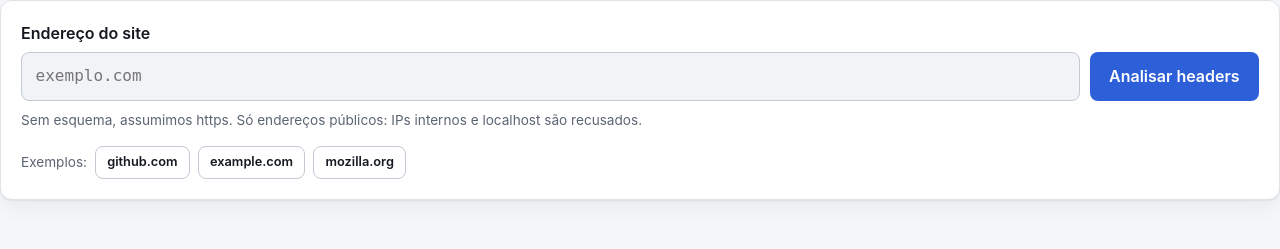
ScanForm › rejects not a url before it ever reaches the API
The image size is (1280, 249).
Type "not a url" into the field labelled "Endereço do site" at (551, 77), box [21,52,1080,101]
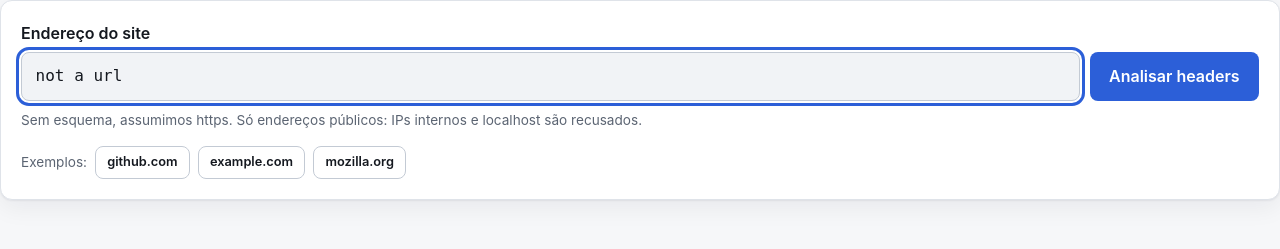
Click the button "Analisar headers" at (1174, 77), box [1090,52,1259,101]
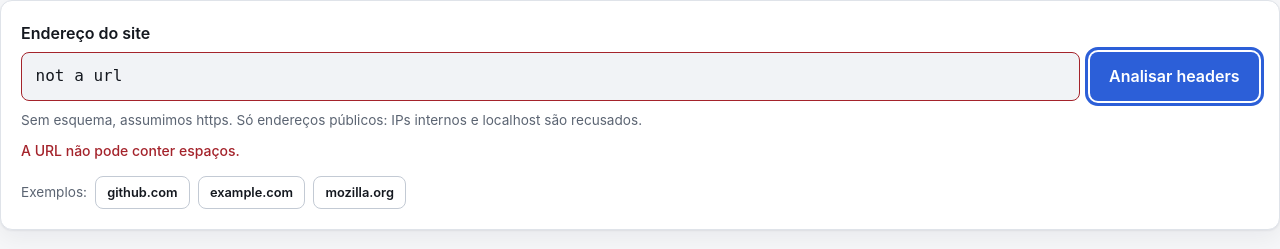
Result: the text "A URL não pode conter espaços." is shown at [21,142,240,159]
